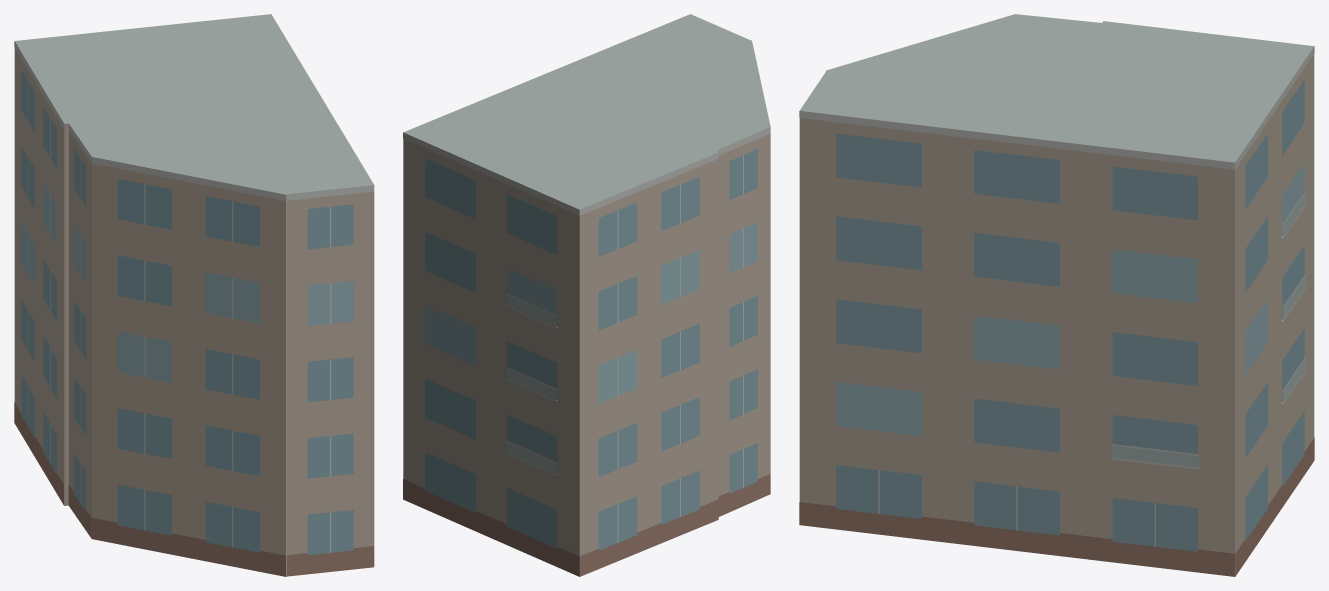
File: survey-upis-32980387.glb
3 renders of one model, left to right at view 1: azimuth 30°, elevation 25°; view 2: azimuth 150°, elevation 25°; view 3: azimuth 270°, elevation 25°, orthographic. The views are drawn at different scales.
Parts seen in each view (by area): view 1: survey-upis-32980387.tmp; view 2: survey-upis-32980387.tmp; view 3: survey-upis-32980387.tmp.
Part boxes in pixels (x1=…): survey-upis-32980387.tmp: x1=14, y1=14, x2=374, y2=576; survey-upis-32980387.tmp: x1=403, y1=14, x2=770, y2=576; survey-upis-32980387.tmp: x1=799, y1=14, x2=1314, y2=576.
Size of the model in its own units: 11.09 by 14.4 by 16.23.
